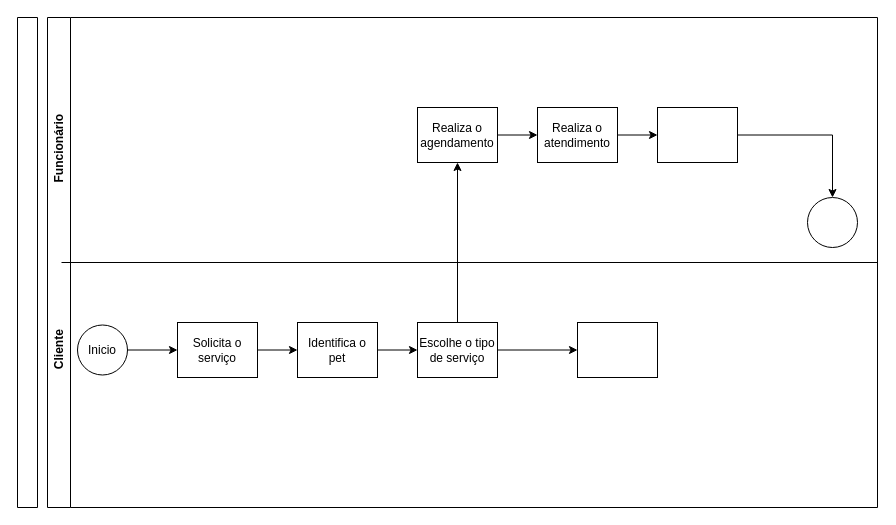
Image size: 896x525. Some labels were removed from this diagram. The shapes that lost their labels are listed below. From the top down, each one's box as (x1, y1, x2, y2) in pixels, then its label:
(656, 106, 738, 162): Atualiza a ficha do atendimento
(806, 196, 858, 248): Fim
(16, 16, 38, 508): Amigo Pet - BPMN
(576, 322, 658, 378): Realiza o pagemento
